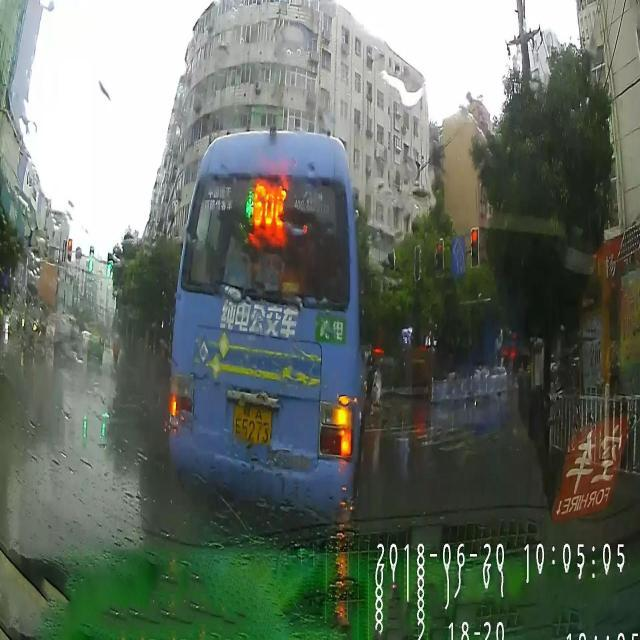car: (88, 330, 104, 360)
